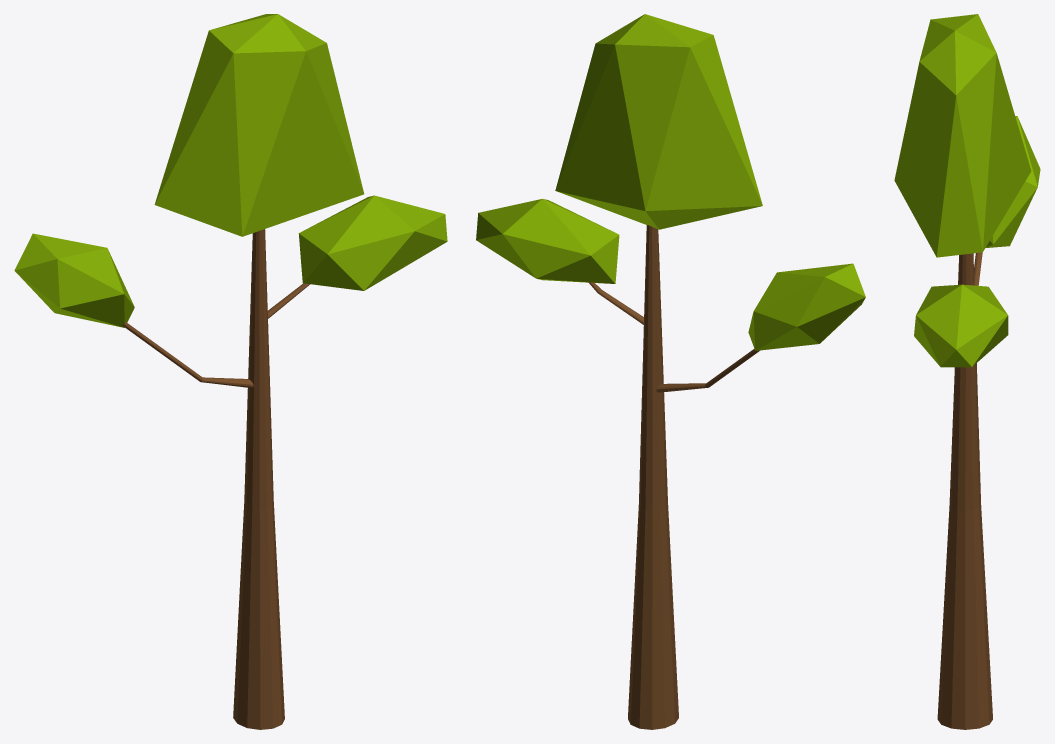
Rendered from sapling 1.fbx.
The picture shows the model from 3 angles, left to right: view 1: azimuth 30°, elevation 25°; view 2: azimuth 150°, elevation 25°; view 3: azimuth 270°, elevation 25°; orthographic projection.
Visible parts, largest first — view 1: Icosphere.001, Cylinder.001; view 2: Icosphere.001, Cylinder.001; view 3: Icosphere.001, Cylinder.001.
Part boxes in pixels (x1=…): Icosphere.001: x1=14, y1=14, x2=447, y2=327; Cylinder.001: x1=123, y1=229, x2=309, y2=729; Icosphere.001: x1=476, y1=14, x2=865, y2=350; Cylinder.001: x1=588, y1=225, x2=760, y2=729; Icosphere.001: x1=894, y1=14, x2=1040, y2=367; Cylinder.001: x1=937, y1=252, x2=992, y2=729.
Size of the model in its own units: 454 by 744 by 142.
